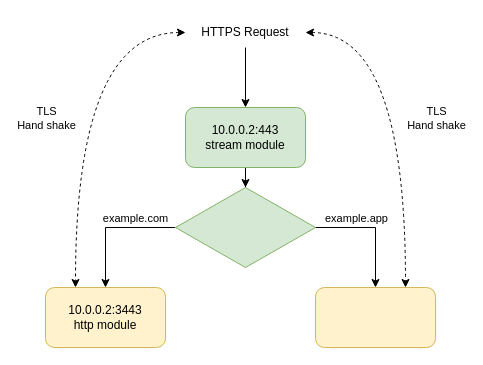
This 483x365 diagram has some shape labels left out. The shapes that lost their labels are listed below. From the top down, each one's box as (x1, y1, x2, y2) in pixels, then its label:
(174, 186, 316, 268): check domain
(314, 286, 436, 348): 10.0.0.3:443 http module
